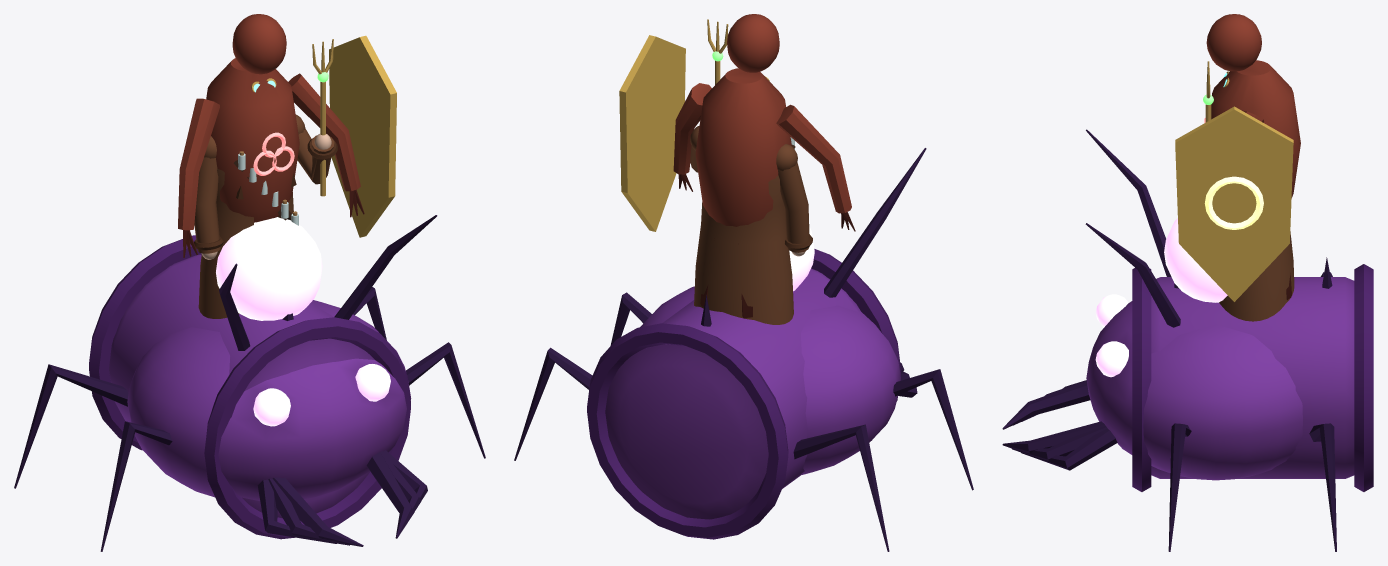
File: borana.glb
The picture shows the model from 3 angles, left to right: view 1: azimuth 30°, elevation 25°; view 2: azimuth 150°, elevation 25°; view 3: azimuth 270°, elevation 25°; orthographic projection. The views are drawn at different scales.
Parts seen in each view (by area): view 1: lev_head, lev_seg, wrt_body, bor_body; view 2: lev_seg, wrt_body, lev_head, bor_body; view 3: lev_head, lev_seg, wrt_body, bor_body.
Boxes of the visible parts, bbox=[...] form: lev_head: bbox=[127, 215, 437, 546]; lev_seg: bbox=[14, 235, 485, 551]; wrt_body: bbox=[178, 14, 396, 257]; bor_body: bbox=[194, 39, 337, 318]; lev_seg: bbox=[514, 249, 973, 551]; wrt_body: bbox=[619, 14, 855, 318]; lev_head: bbox=[640, 148, 926, 474]; bor_body: bbox=[690, 19, 812, 324]; lev_head: bbox=[1002, 129, 1302, 480]; lev_seg: bbox=[1132, 257, 1373, 551]; wrt_body: bbox=[1175, 14, 1300, 301]; bor_body: bbox=[1203, 61, 1294, 321].
Size of the model in its own units: 2.31 by 2.78 by 2.01.
